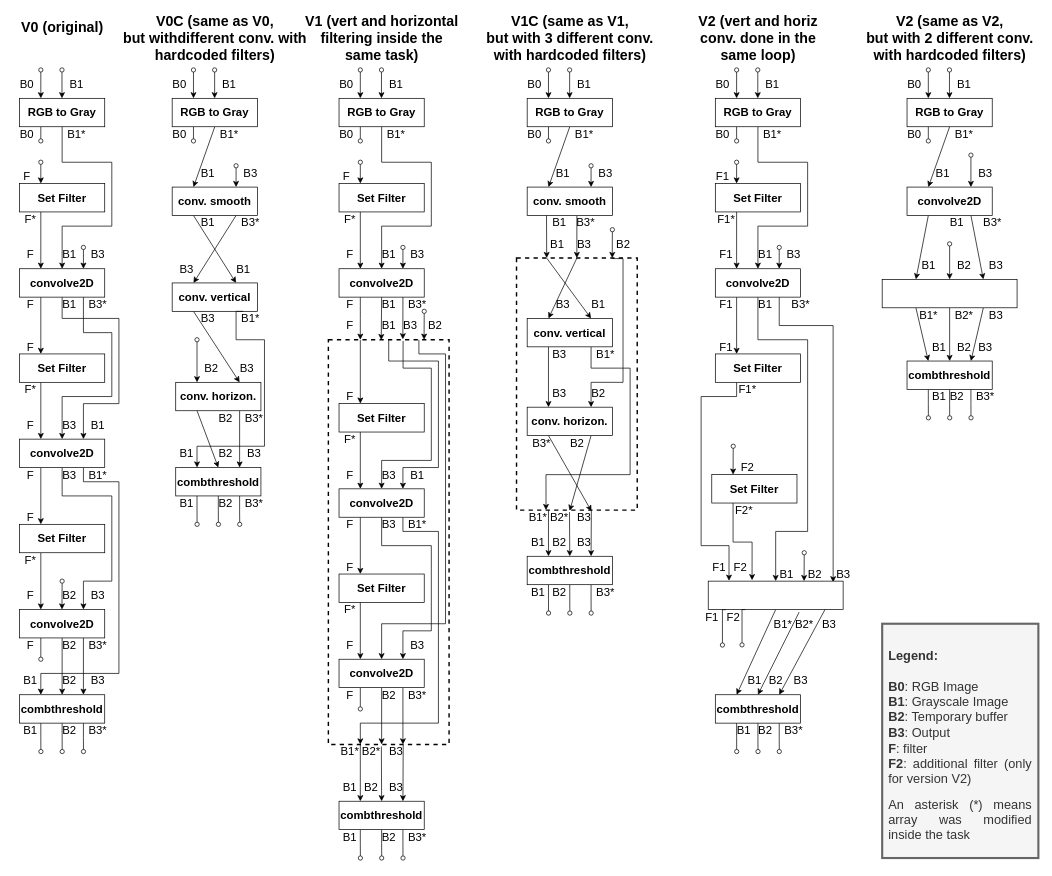
The diagram is 1052 pixels wide and 876 high, and some of its shapes have lost their labels. The shapes that lost their labels are listed below. From the top down, each one's centre as x and y in pixels, then its label:
At pixel 949 293: "conv. vert. & horiz.".
At pixel 775 595: "convolve2D double".
